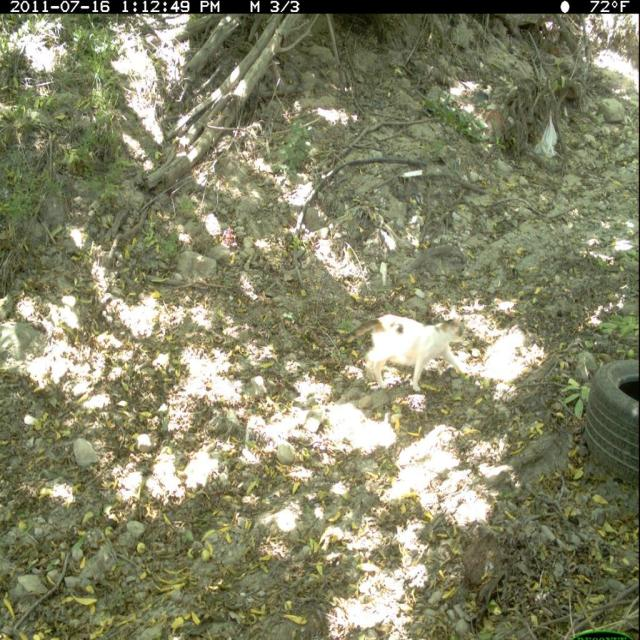cat: (337, 297, 483, 421)
